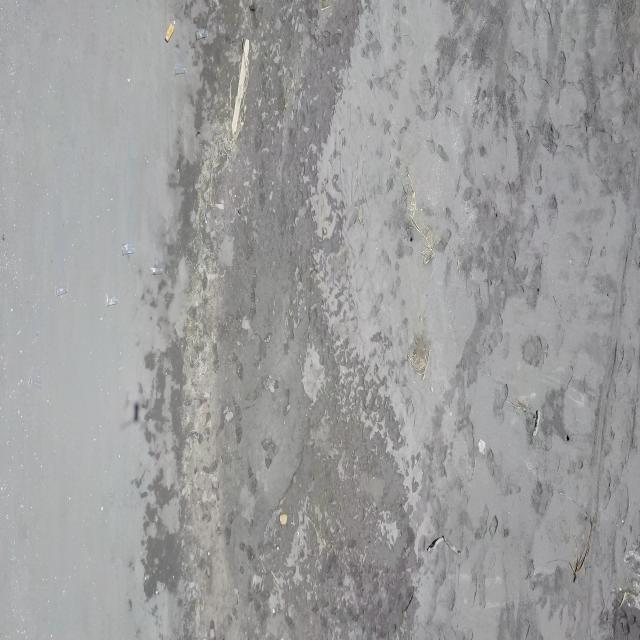Garbage: (231, 39, 247, 136), (407, 333, 428, 377), (164, 20, 173, 42), (120, 243, 134, 255), (27, 373, 39, 387), (196, 27, 207, 40), (105, 293, 116, 306), (477, 439, 486, 453), (279, 512, 287, 526), (173, 64, 184, 74), (55, 287, 67, 296), (151, 264, 163, 273), (319, 0, 329, 9), (213, 201, 223, 208)
